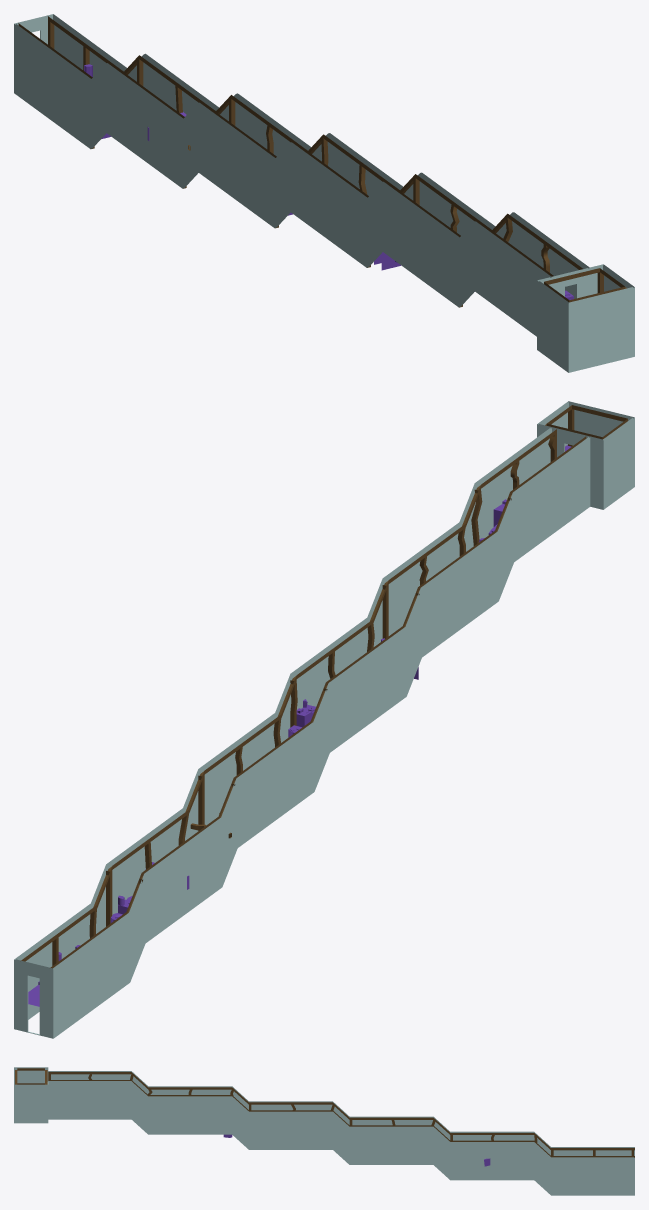
The model's file is nvl_5_probando-1.fbx.
The picture shows the model from 3 angles, top to bottom: view 1: azimuth 30°, elevation 25°; view 2: azimuth 150°, elevation 25°; view 3: azimuth 270°, elevation 25°; orthographic projection. The views are drawn at different scales.
Visible parts, largest first — view 1: Pared, Viga; view 2: Pared, Viga, Protuberancias; view 3: Pared, Viga.
Boxes of the visible parts, left/top/right/bottom form: Pared: left=14, top=14, right=634, bottom=372; Viga: left=18, top=16, right=626, bottom=307; Pared: left=14, top=401, right=634, bottom=1038; Viga: left=20, top=405, right=628, bottom=968; Protuberancias: left=28, top=445, right=571, bottom=1006; Pared: left=14, top=1067, right=634, bottom=1195; Viga: left=15, top=1068, right=634, bottom=1157.
Bounding box in the file's own units: 5 × 15 × 74.
